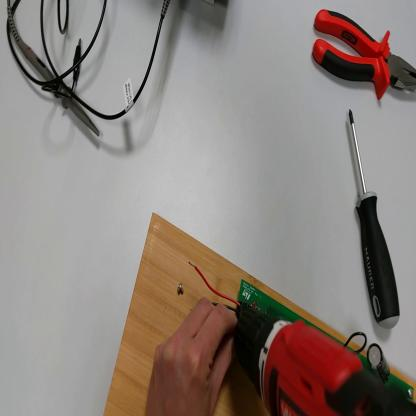electric screwdriver: (235, 307, 410, 415)
hand: (147, 301, 238, 415)
high voltage board: (190, 260, 416, 416)
oscilloscope probe tip: (13, 36, 100, 138)
pliers: (312, 8, 416, 105)
screwdriver-: (349, 105, 403, 339)
working area: (104, 213, 416, 416)
